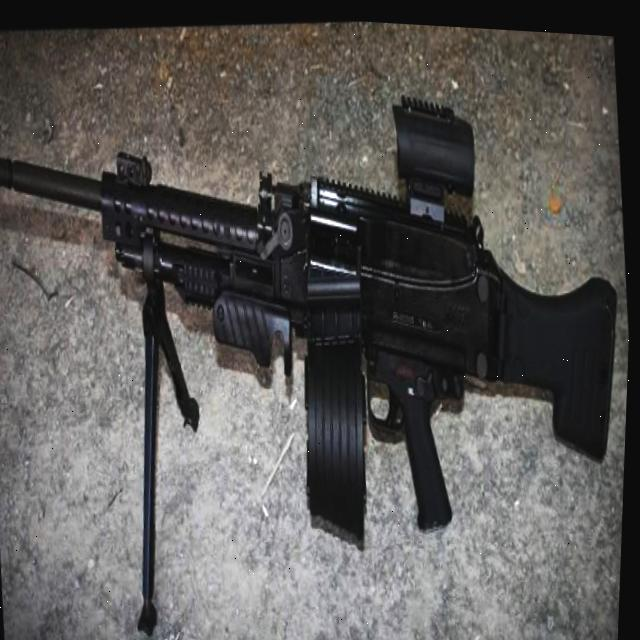firearm: (0, 57, 638, 575)
